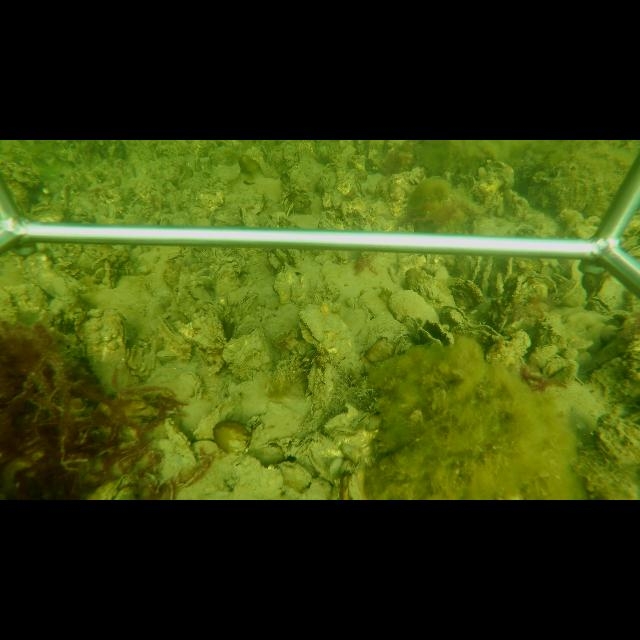Oyster-Closed: (81, 308, 134, 397), (299, 303, 350, 357), (159, 417, 198, 483), (221, 325, 270, 372), (192, 394, 235, 438), (389, 288, 440, 325), (153, 315, 193, 362), (274, 460, 311, 493), (213, 258, 242, 298), (450, 278, 484, 305), (530, 343, 558, 368), (348, 464, 367, 498), (542, 356, 566, 377), (349, 411, 372, 430), (104, 260, 116, 289), (238, 204, 252, 225)
Oyster-Open: (411, 323, 458, 348), (589, 297, 612, 313)
